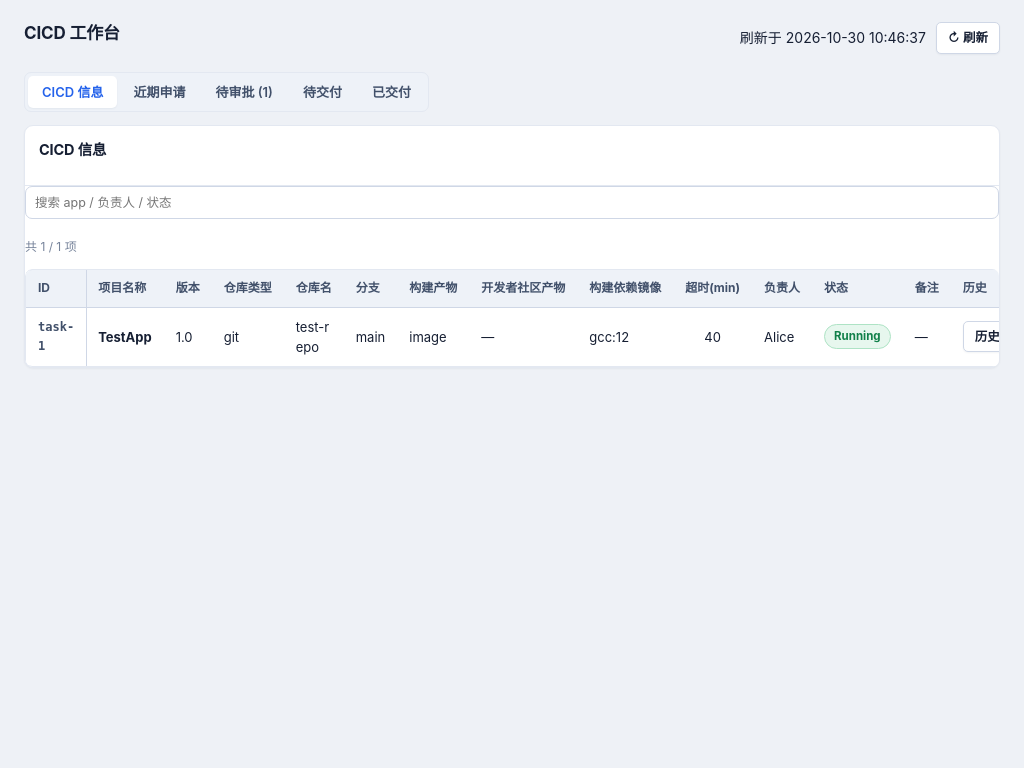
Test case: CicdPage › ApproveDialog: formats repo_name diff as a short path
Click the button "待审批 (1)".
click(244, 92)  # box [201,76,287,108]
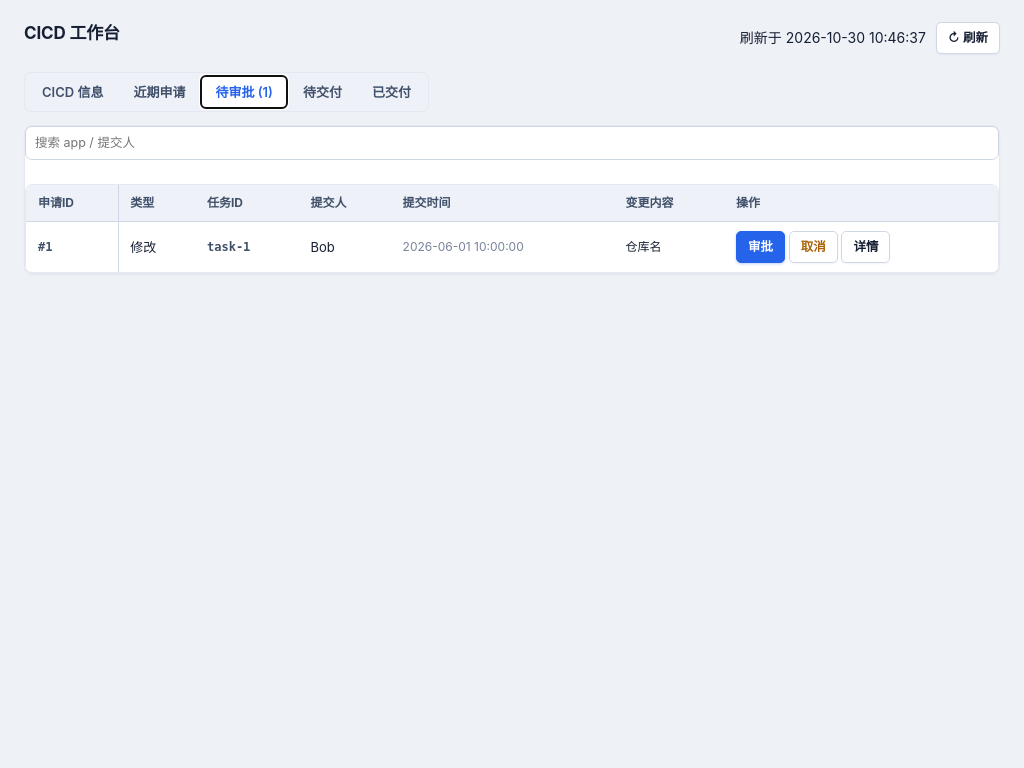
Click the button "审批".
click(761, 247)  # box [736,232,785,263]
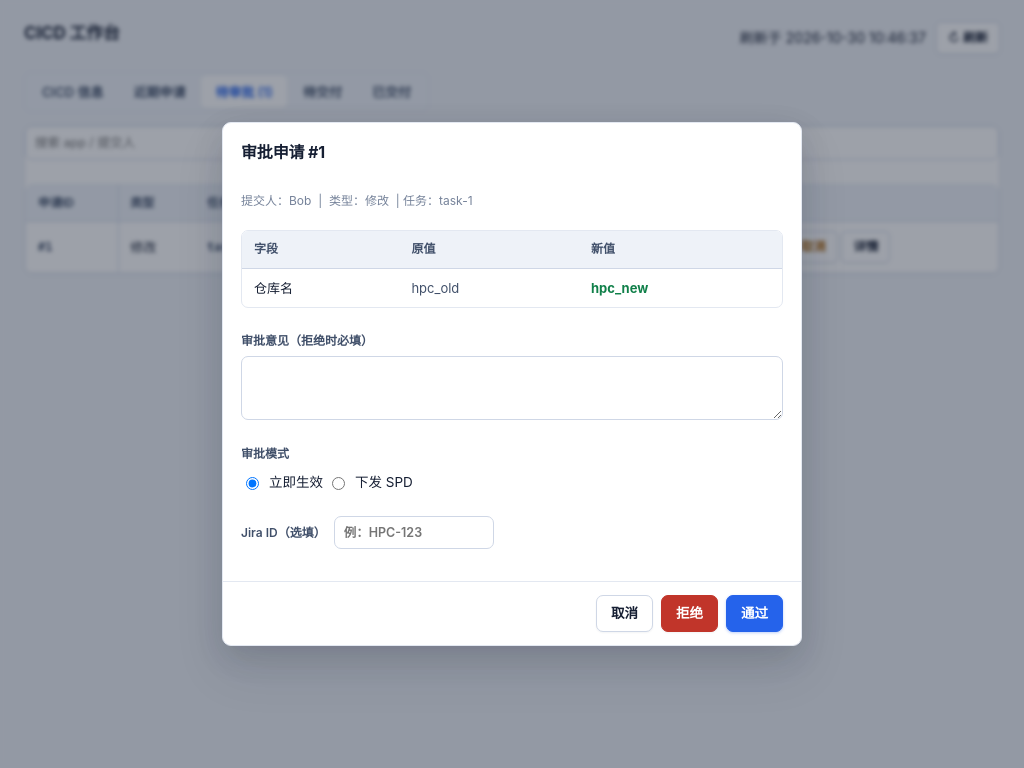
Result: the text "hpc_old" is shown at [399,269,579,307]
Result: the text "hpc_new" is shown at [579,269,782,307]
